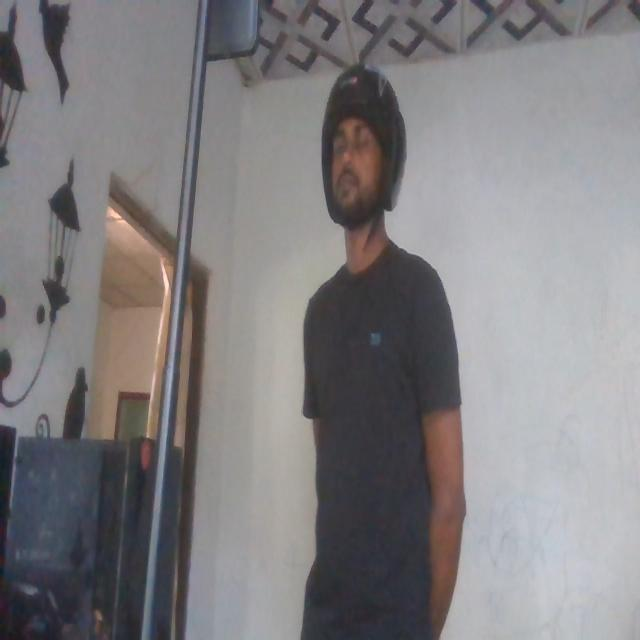Helmet_Wearer: (315, 60, 409, 258)
Person: (292, 58, 460, 640)
